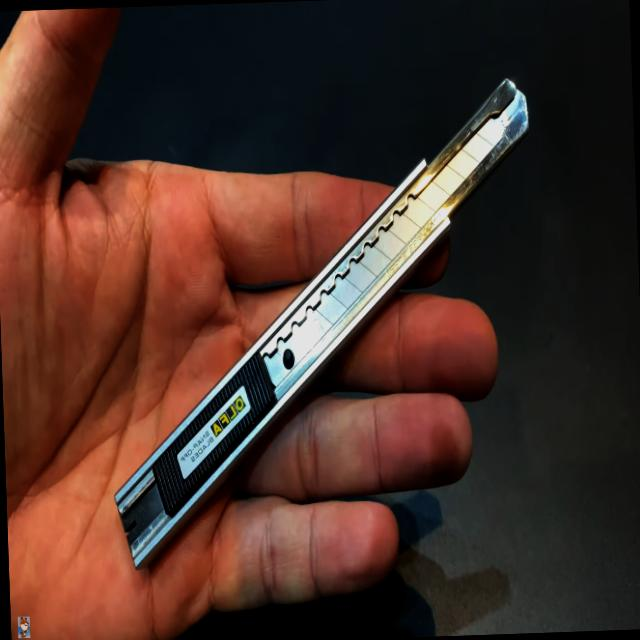cutter: (0, 5, 570, 640)
